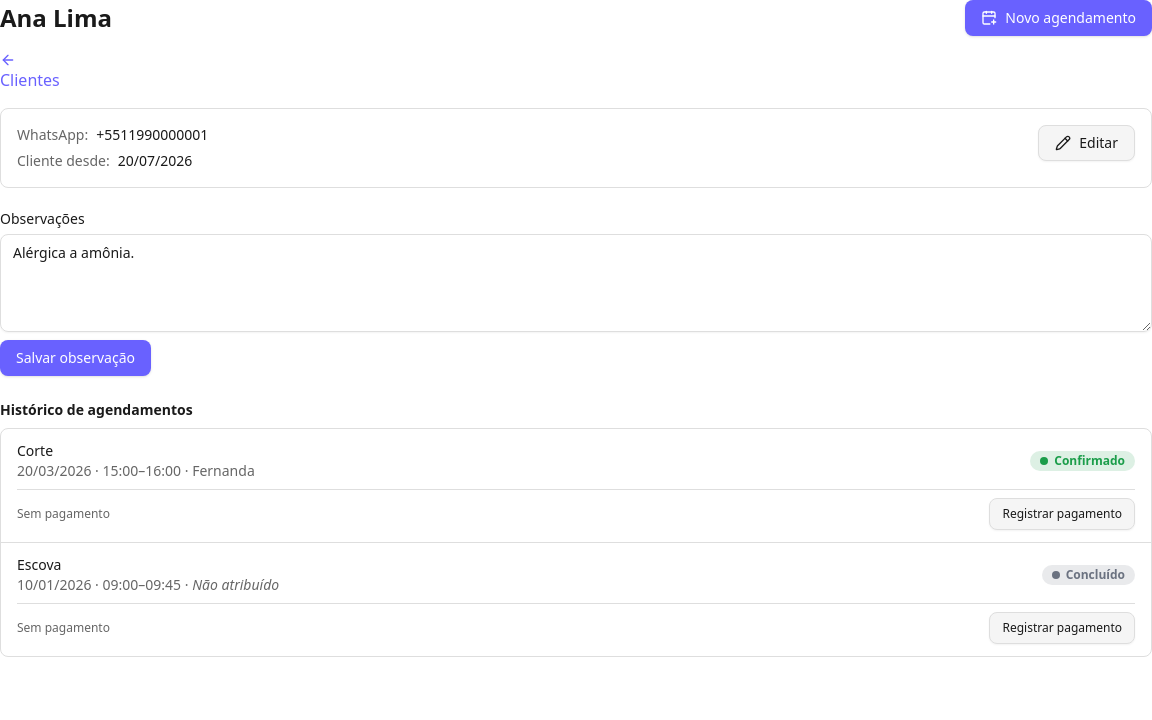
ClientePerfil › atalho 'Novo agendamento' abre o fluxo com a cliente pré-selecionada
The width and height of the screenshot is (1152, 720).
Expected: the heading "Ana Lima" is shown, [0,2,112,34]
Click the button "Novo agendamento" at (1059,18), box [965,0,1151,36]
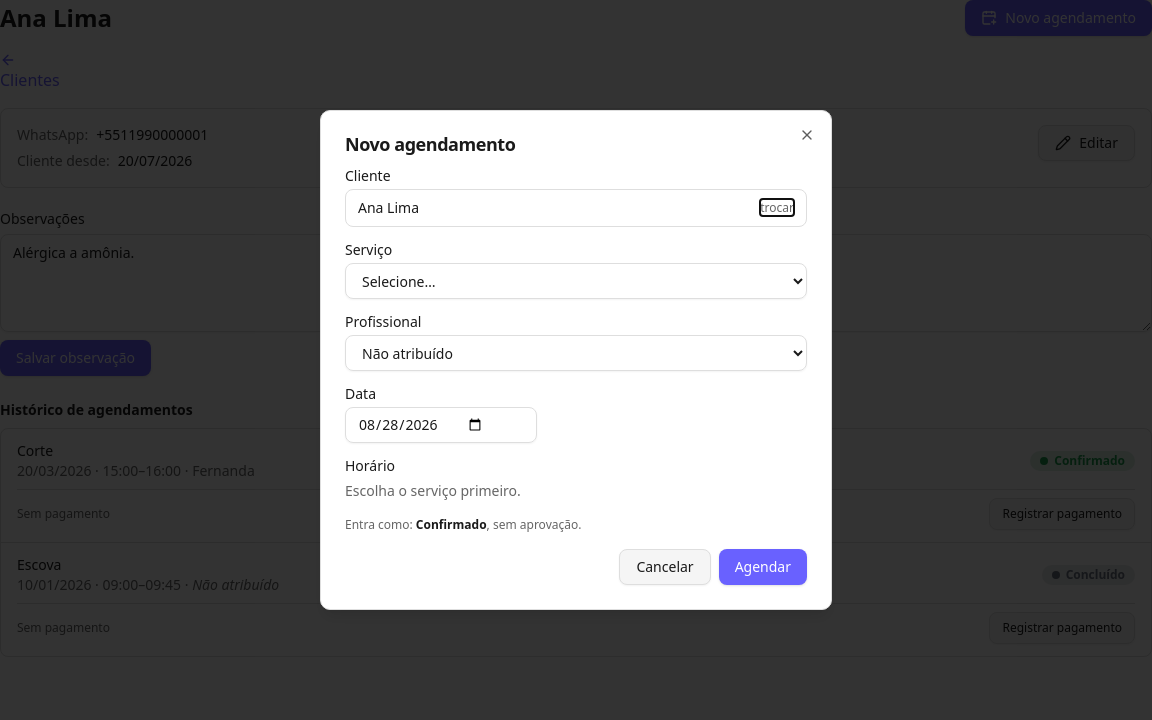
Expected: the dialog shows "Ana Lima", [358,198,419,217]
Expected: the button "trocar" is shown, [760,200,794,216]
